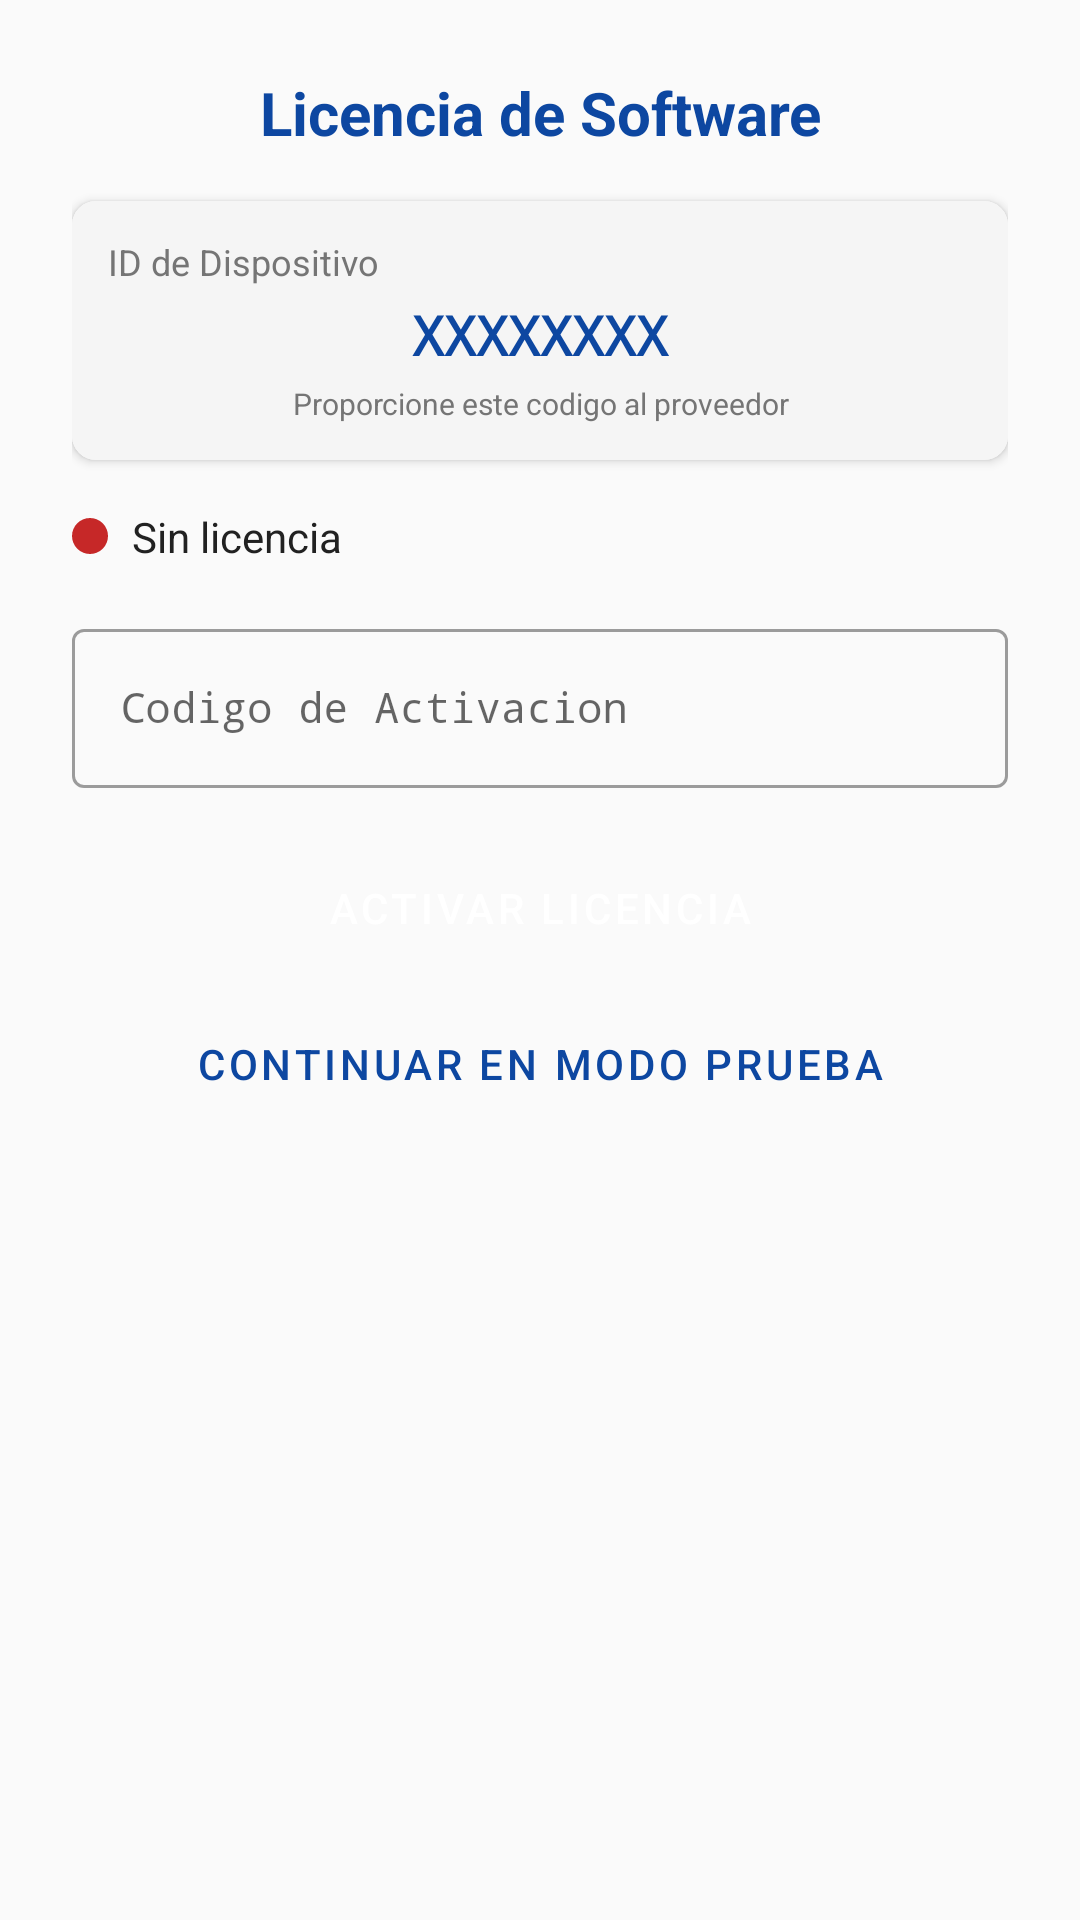

Where to tap for icons on this 1080*1920 app screen, as [x,y]:
status indicator: [90,536]
